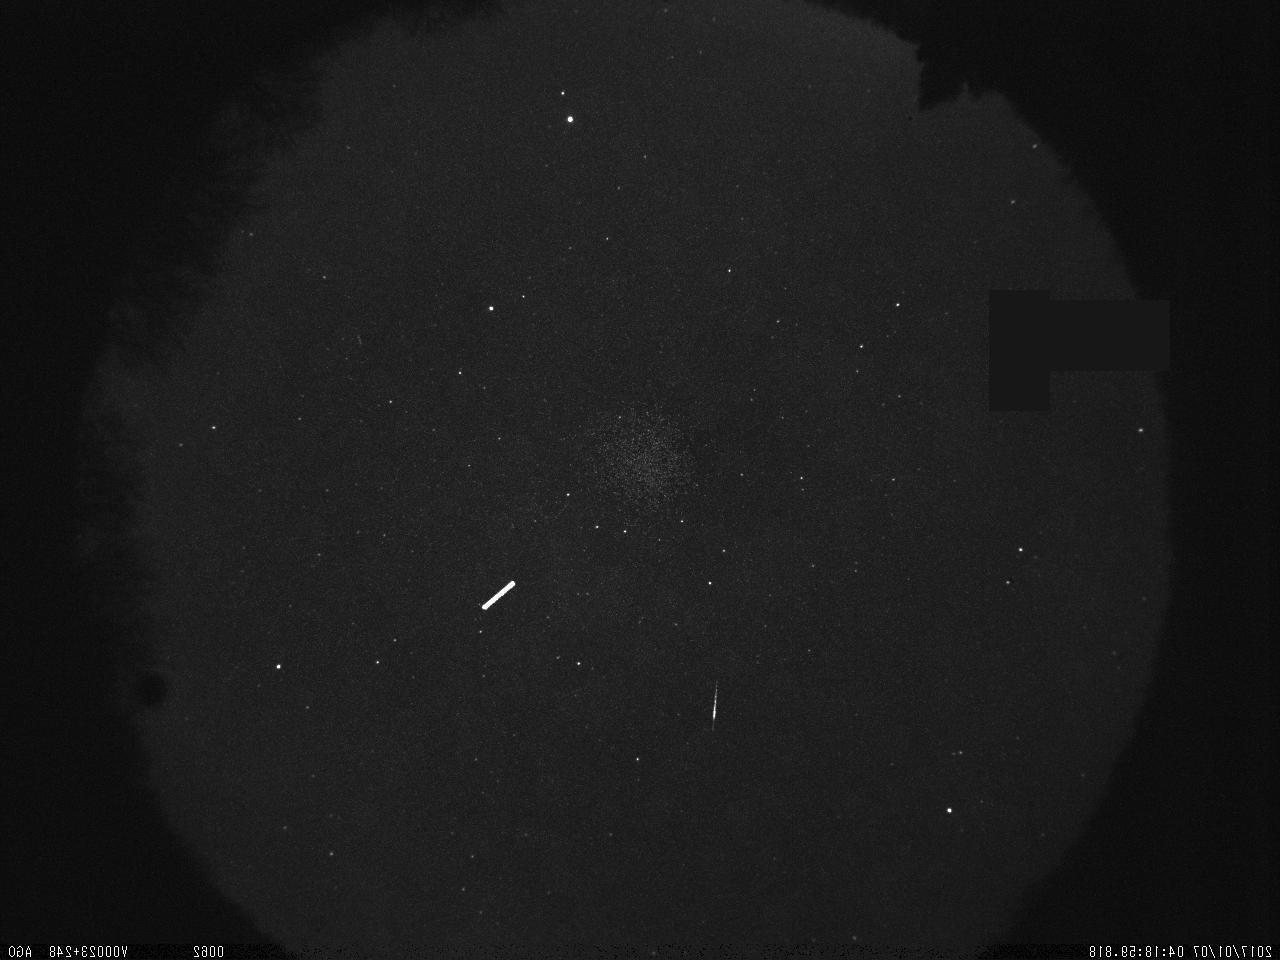meteor: (695, 670, 736, 736)
satelite: (467, 571, 525, 619)
